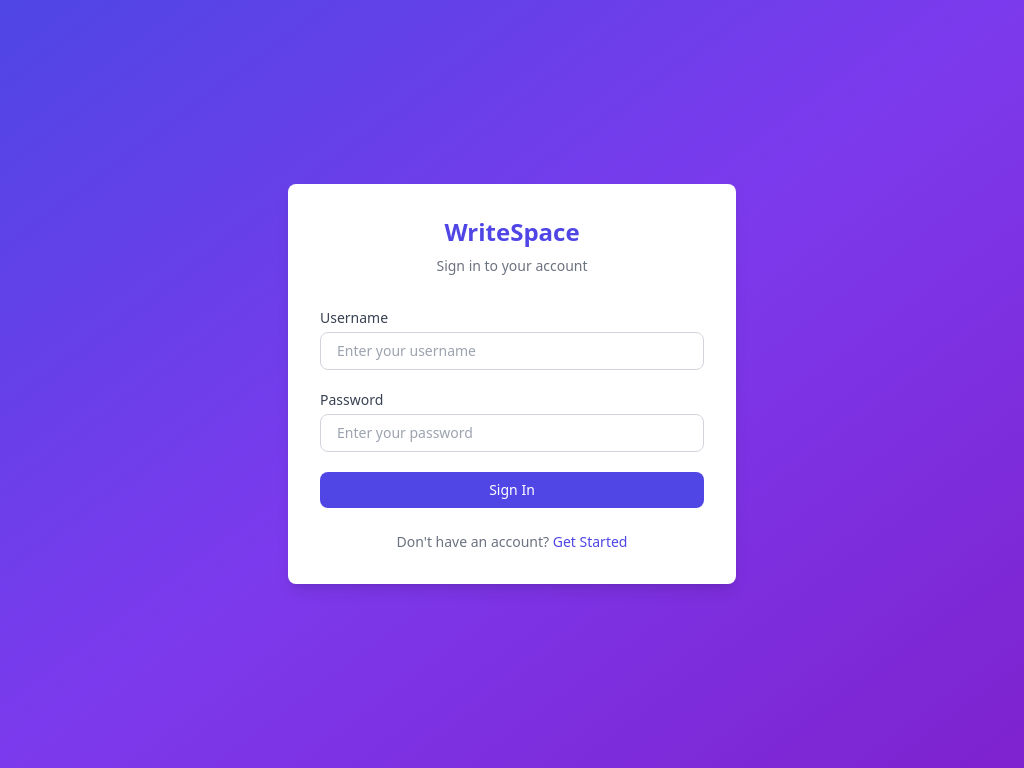
Scenario: LoginPage › validation › displays error when submitting with only username
The image size is (1024, 768).
Type "admin" into the field labelled "Username" at (512, 351), box [320,332,704,370]
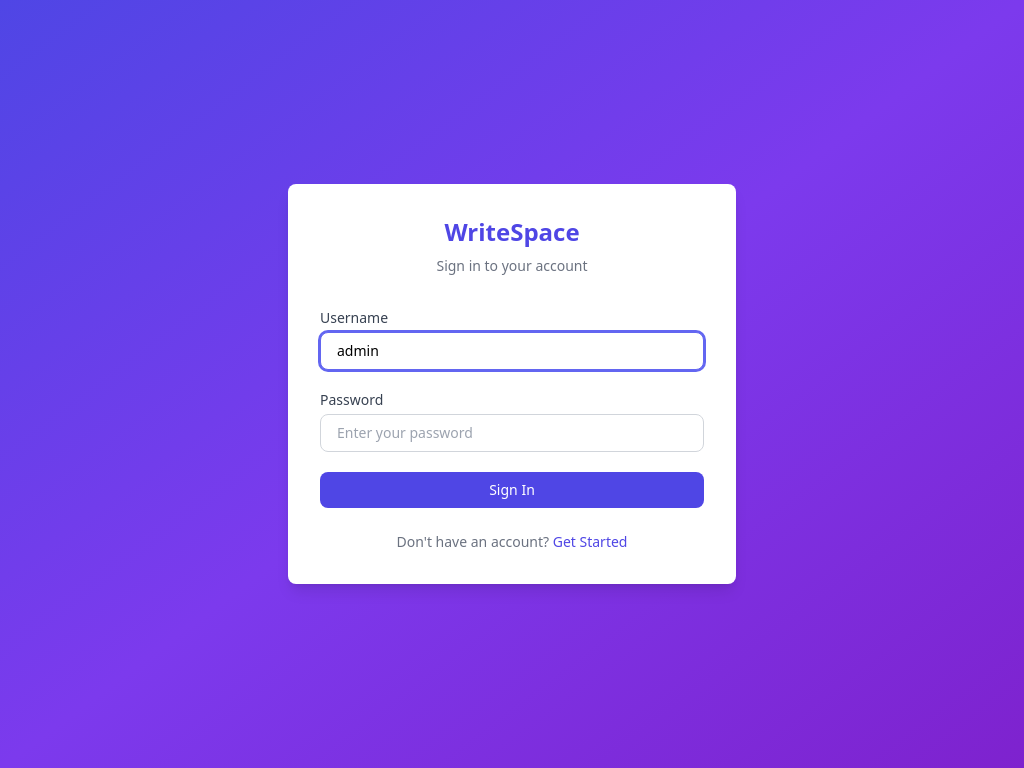
Click the button "Sign In" at (512, 490), box [320,472,704,508]
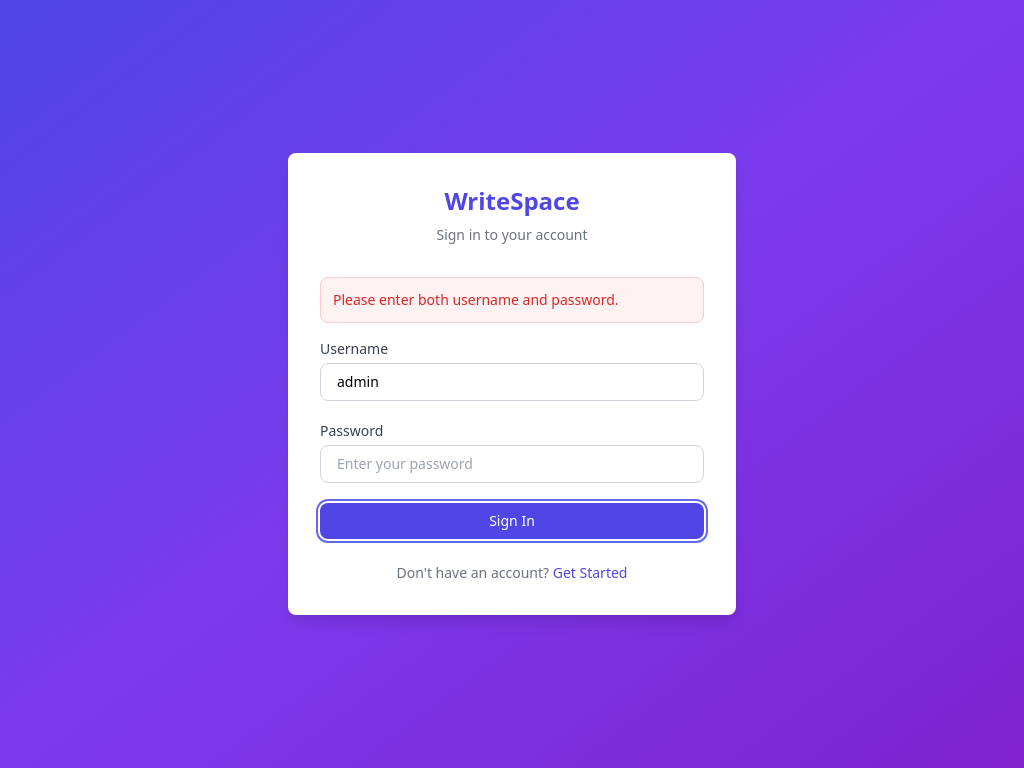
Now the text "Please enter both username and password." is shown, box [320,277,704,323]
